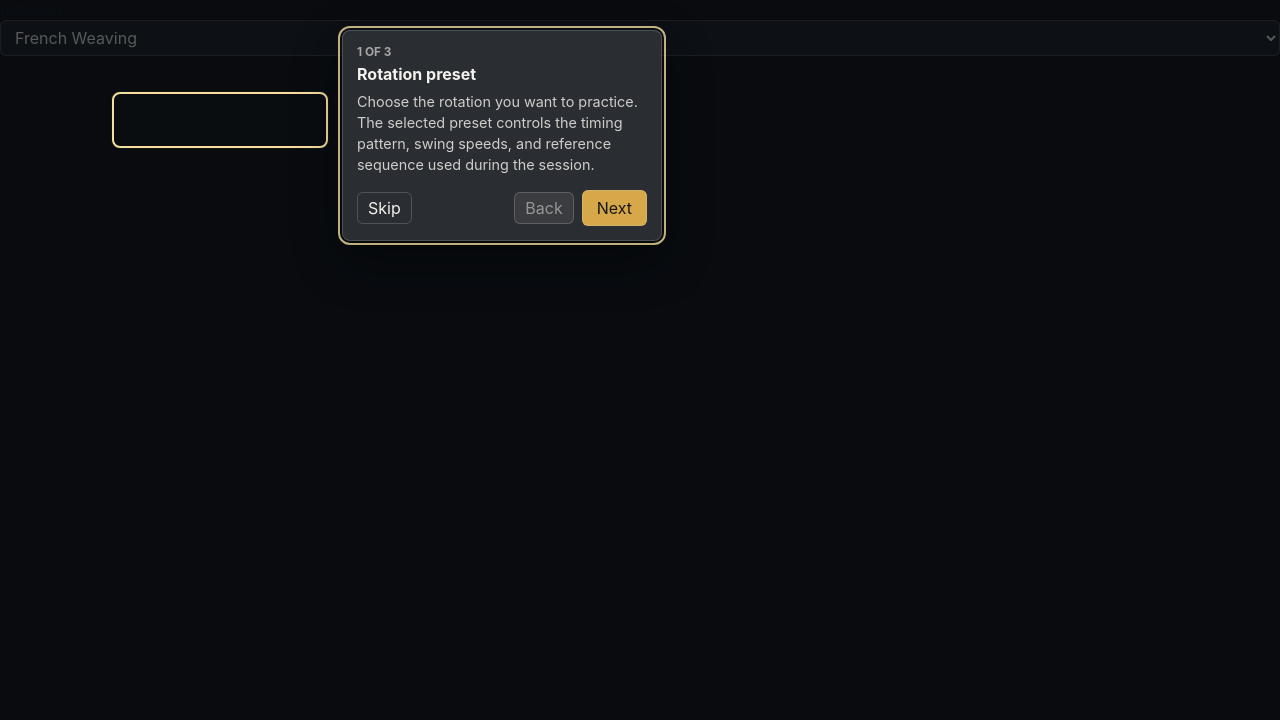
Test: WalkthroughTour › measures the new target when the active step changes
The image size is (1280, 720).
Expected: the element with class "walkthrough-highlight" is shown, left=112, top=92, right=328, bottom=148
Click the button "Next" at {"x": 614, "y": 208}, box left=582, top=190, right=647, bottom=226
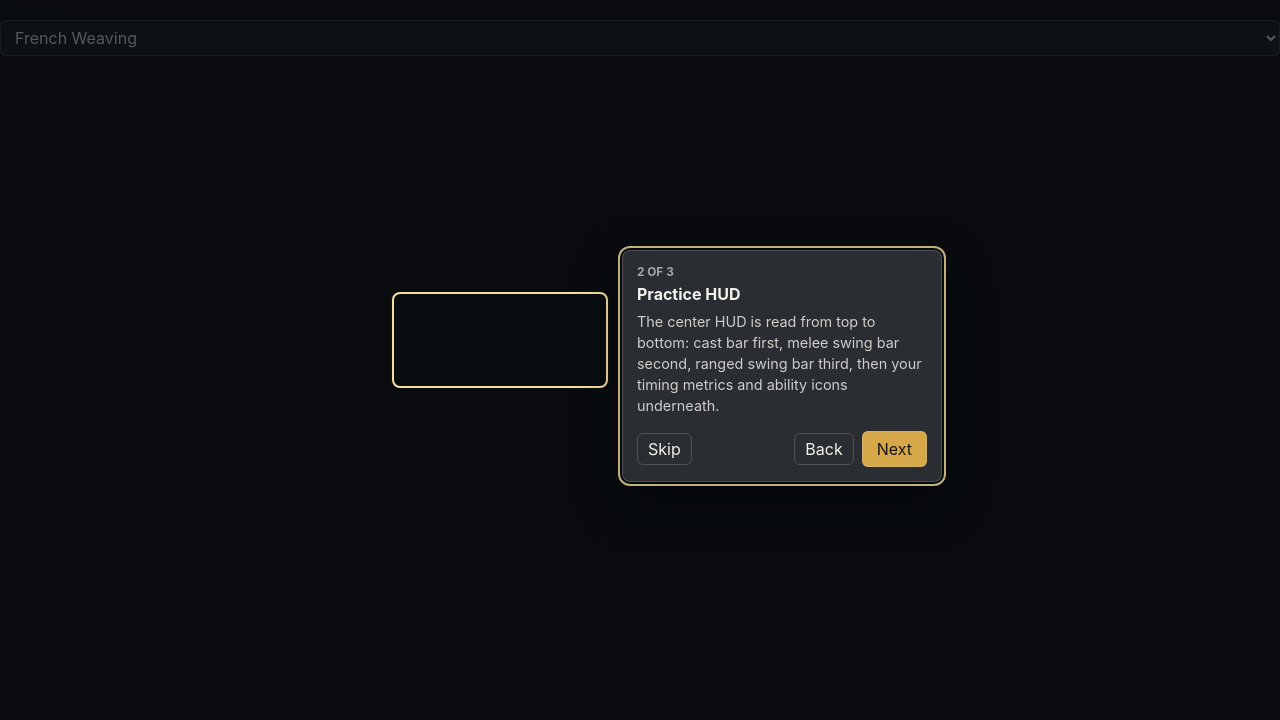
Now the dialog "Practice HUD" is shown, box left=622, top=250, right=942, bottom=482
